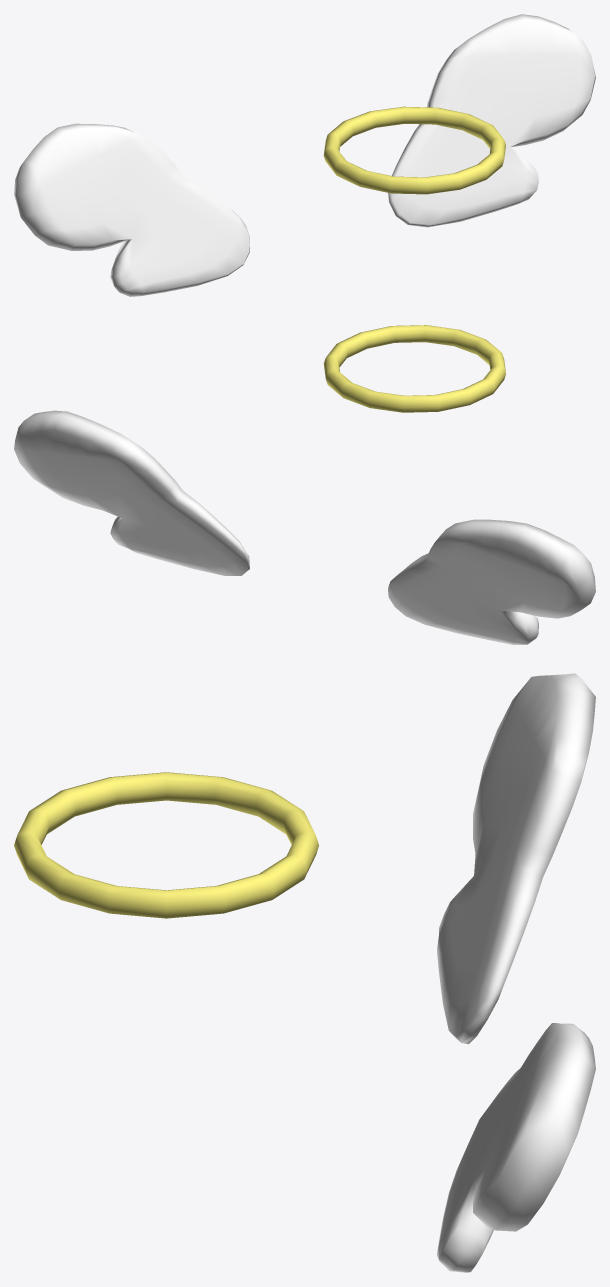
File: angle.fbx
3 renders of one model, top to bottom at view 1: azimuth 30°, elevation 25°; view 2: azimuth 150°, elevation 25°; view 3: azimuth 270°, elevation 25°, orthographic. The views are drawn at different scales.
Parts seen in each view (by area): view 1: pCube3; view 2: pCube3; view 3: pCube3.
Part boxes in pixels (<box>): pCube3: <box>14,14,595,296</box>; pCube3: <box>14,325,595,644</box>; pCube3: <box>14,673,595,1272</box>.
Size of the model in its own units: 4.01 by 1.17 by 2.13.
